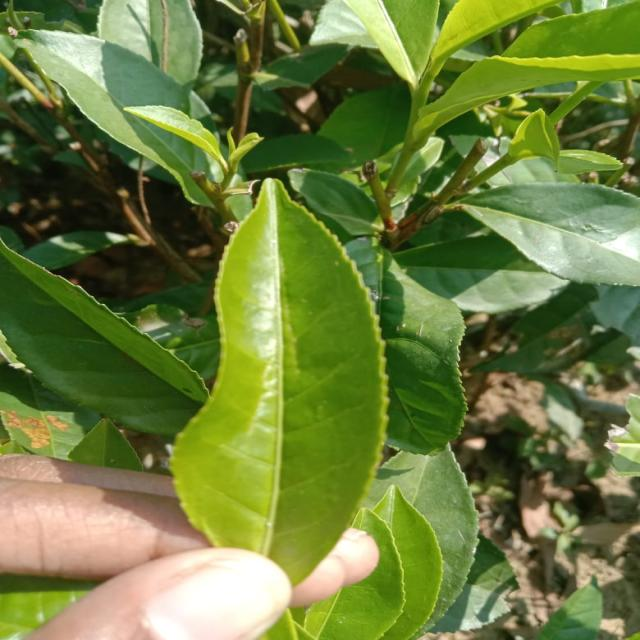Category B 2-4 days: (145, 166, 399, 612)
